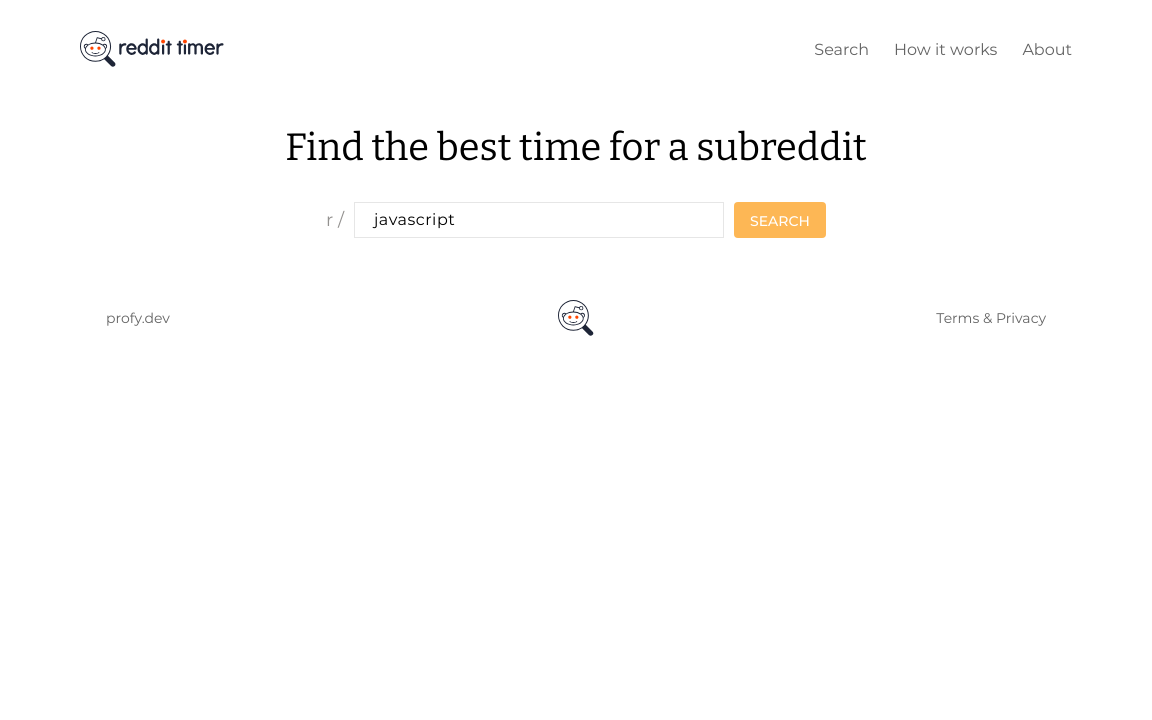
Test case: navigates to home page when logo is clicked
Step 1. Click the link named "logo" in the row of "How it works" → (155, 48), box [80,30,230,66]
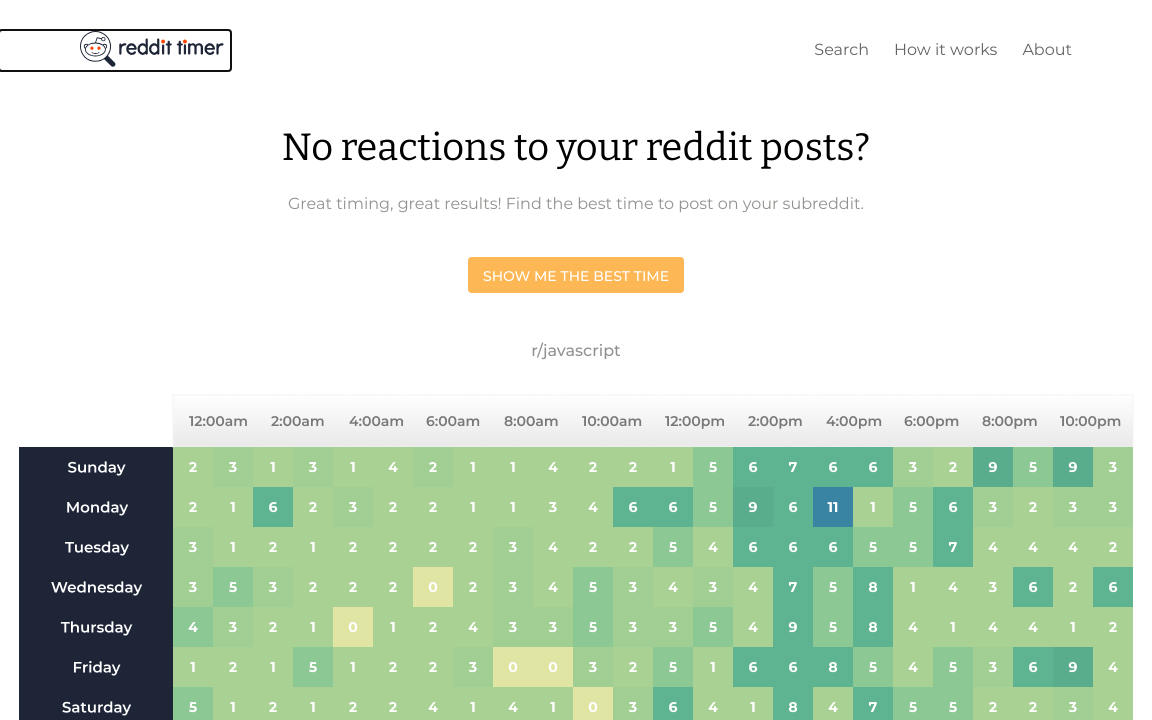
Now the heading "No reactions to your reddit posts?" is shown, box [282,124,870,170]
